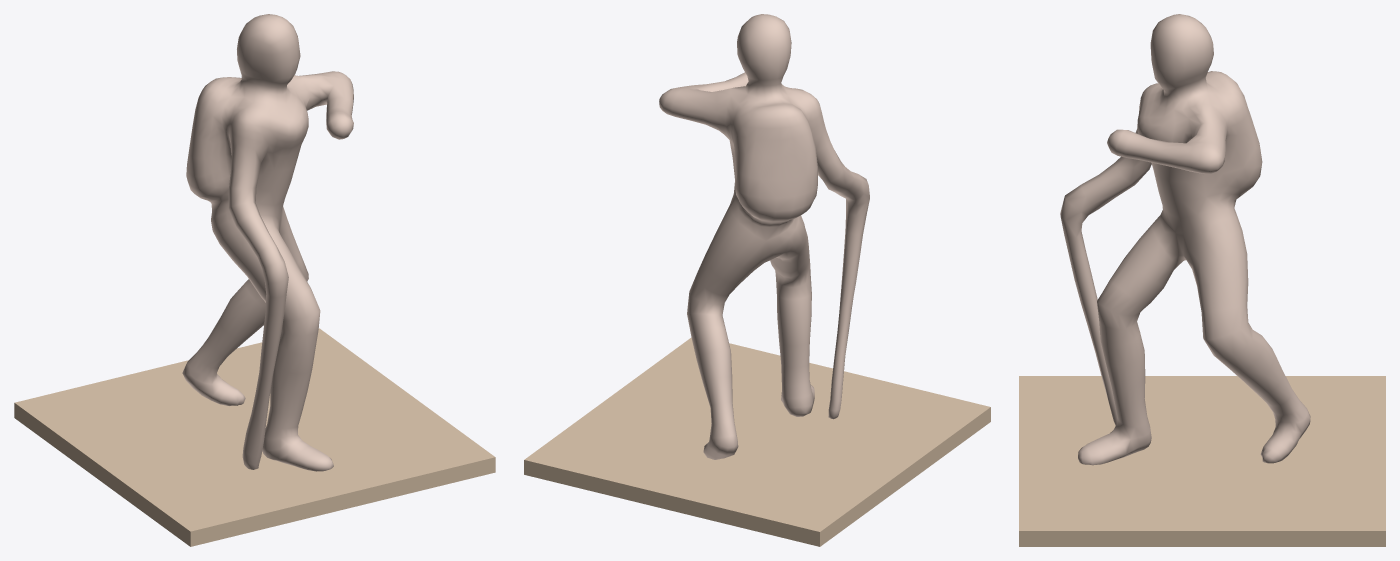
The model's file is gog_karinasculpy_mesh.fbx.
3 renders of one model, left to right at view 1: azimuth 30°, elevation 25°; view 2: azimuth 150°, elevation 25°; view 3: azimuth 270°, elevation 25°, orthographic. The views are drawn at different scales.
Parts seen in each view (by area): view 1: pPipe13; view 2: pPipe13; view 3: pPipe13.
Boxes of the visible parts, left/top/right/bottom form: pPipe13: left=14, top=14, right=495, bottom=546; pPipe13: left=524, top=14, right=990, bottom=546; pPipe13: left=1019, top=14, right=1385, bottom=546.
Bounding box in the file's own units: 32.66 × 44.62 × 32.66.
